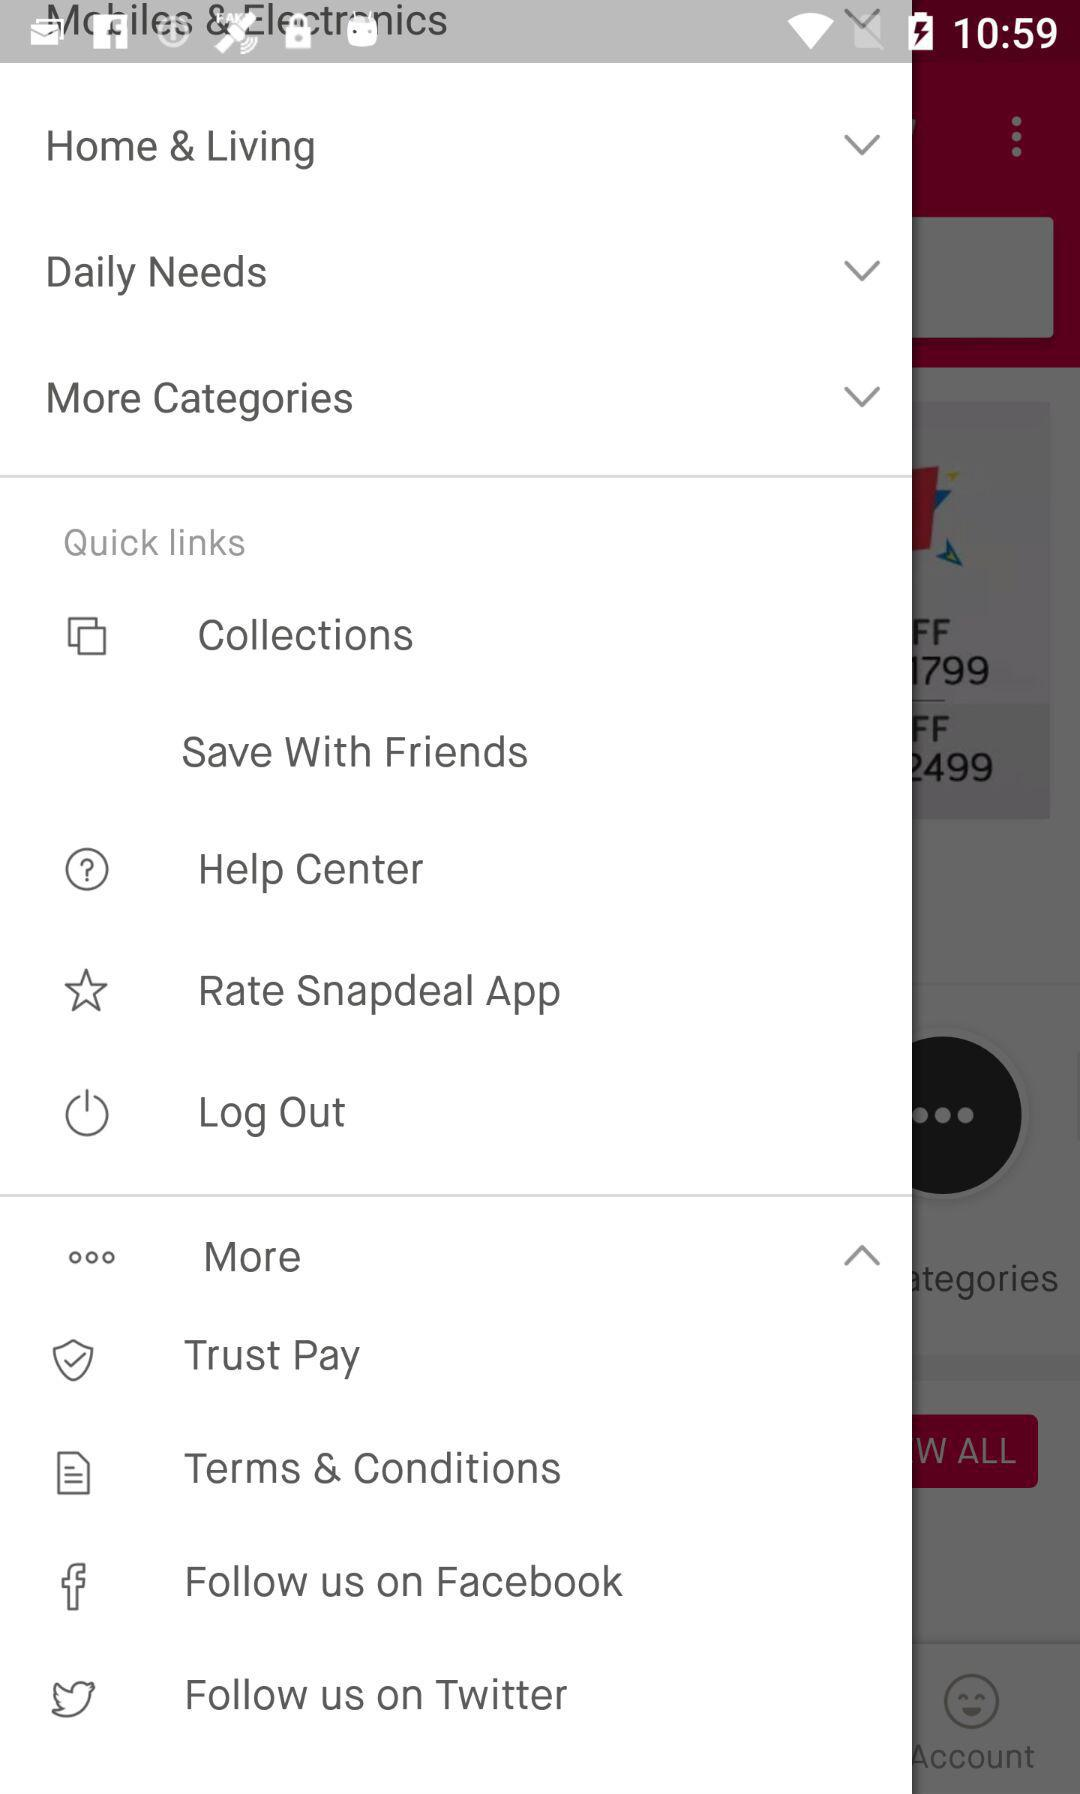Drawer: (1, 64, 912, 1794)
Icon: (65, 1088, 111, 1138), (65, 967, 110, 1014), (67, 848, 110, 892), (53, 1680, 97, 1718), (67, 616, 108, 657), (56, 1451, 92, 1495), (61, 1562, 88, 1612), (842, 133, 883, 158), (842, 1244, 881, 1269), (843, 386, 881, 410), (843, 259, 881, 283), (69, 1249, 117, 1266)
Image: (53, 1338, 95, 1381)
Text: (201, 973, 561, 1017), (187, 1565, 624, 1598), (187, 1676, 569, 1712), (184, 1451, 562, 1486), (47, 381, 354, 423), (182, 736, 529, 769), (47, 129, 316, 172), (47, 254, 266, 299), (201, 853, 425, 894), (199, 618, 414, 654), (184, 1338, 361, 1381), (200, 1096, 347, 1138), (65, 528, 246, 557), (205, 1240, 302, 1274)
UpperTaskBar: (1, 1, 1080, 64)
